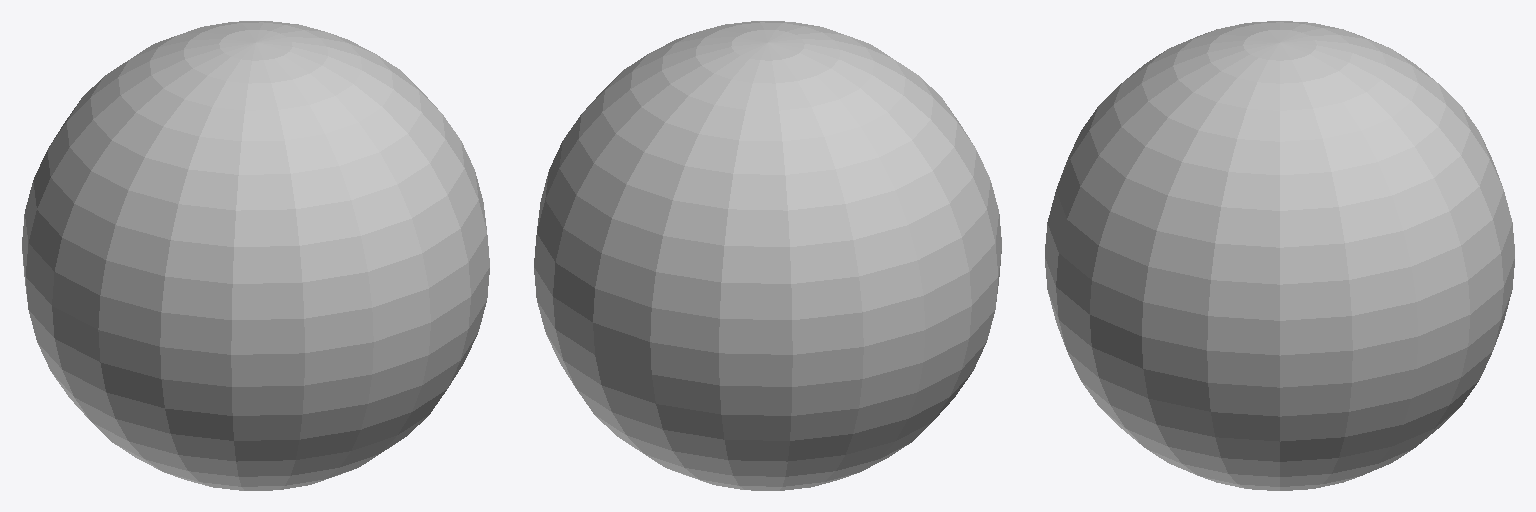
Rendered from testSphere.obj.
3 renders of one model, left to right at view 1: azimuth 30°, elevation 25°; view 2: azimuth 150°, elevation 25°; view 3: azimuth 270°, elevation 25°, orthographic.
Visible parts, largest first — view 1: pSphere1; view 2: pSphere1; view 3: pSphere1.
Part boxes in pixels (bbox=[...]): pSphere1: bbox=[22, 21, 489, 490]; pSphere1: bbox=[534, 21, 1001, 490]; pSphere1: bbox=[1045, 21, 1514, 490].
Bounding box in the file's own units: 6.9 × 6.9 × 6.9.